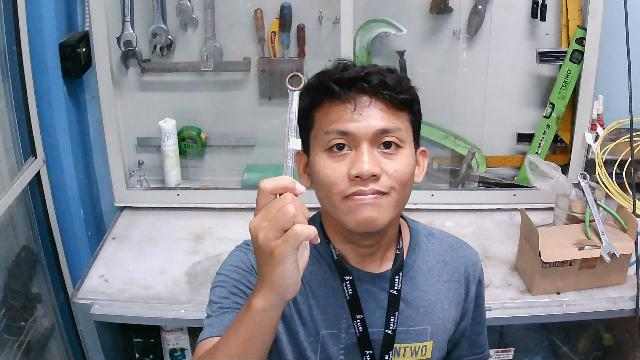kunci_pass_13: (274, 67, 315, 203)
